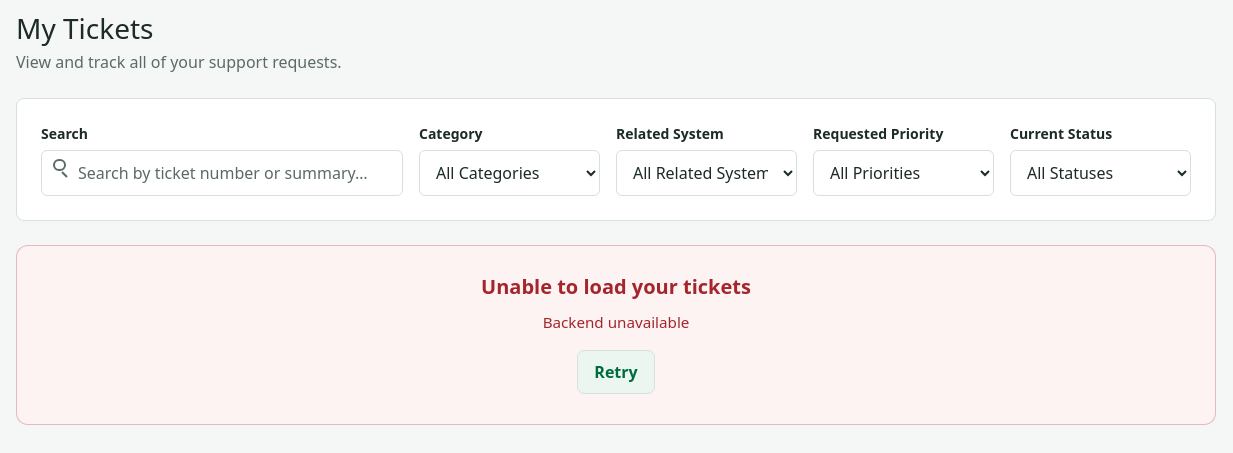
Test case: MyTickets › error state › retries the ticket request when Retry is clicked
Click the button "Retry". click: (616, 372)
box: x1=577 y1=350 x2=655 y2=394
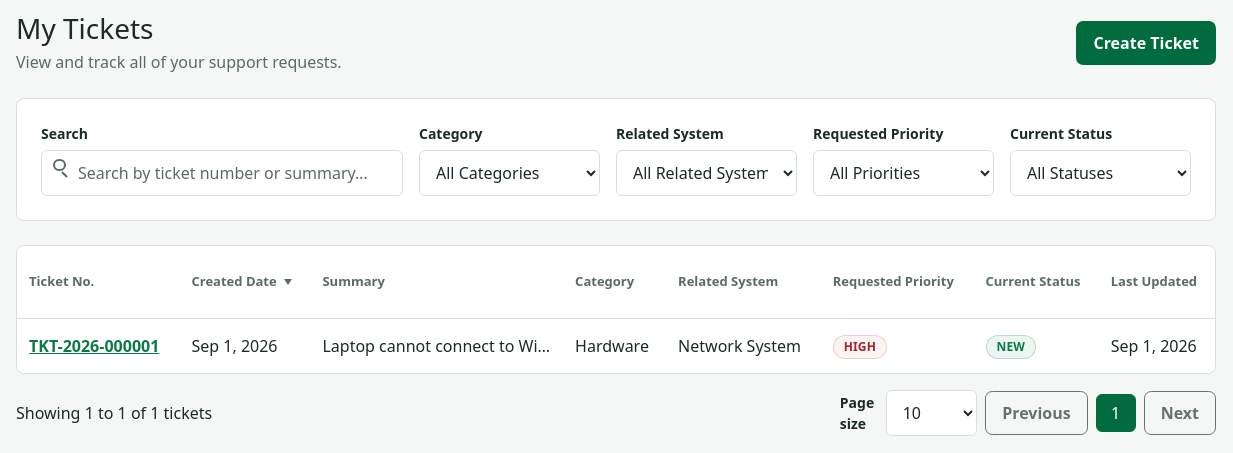
Expected: the link "TKT-2026-000001" is shown, x1=29 y1=335 x2=159 y2=357
